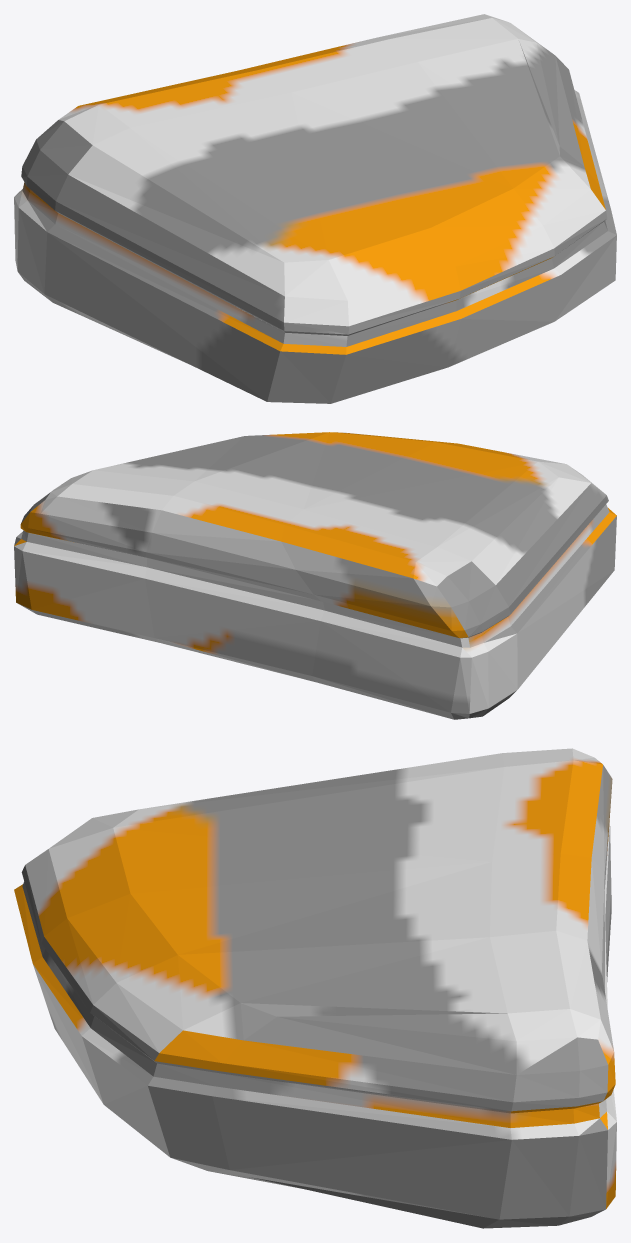
The model's file is LeftToe.obj.
The picture shows the model from 3 angles, top to bottom: view 1: azimuth 30°, elevation 25°; view 2: azimuth 150°, elevation 25°; view 3: azimuth 270°, elevation 25°; orthographic projection. The views are drawn at different scales.
Visible parts, largest first — view 1: LeftToe_Mesh.471; view 2: LeftToe_Mesh.471; view 3: LeftToe_Mesh.471.
Part boxes in pixels (bbox=[...]): LeftToe_Mesh.471: bbox=[14, 14, 616, 403]; LeftToe_Mesh.471: bbox=[14, 432, 616, 719]; LeftToe_Mesh.471: bbox=[14, 748, 616, 1228].
Bounding box in the file's own units: 0.0943 × 0.0269 × 0.0725.
1 material, 1 textured.
